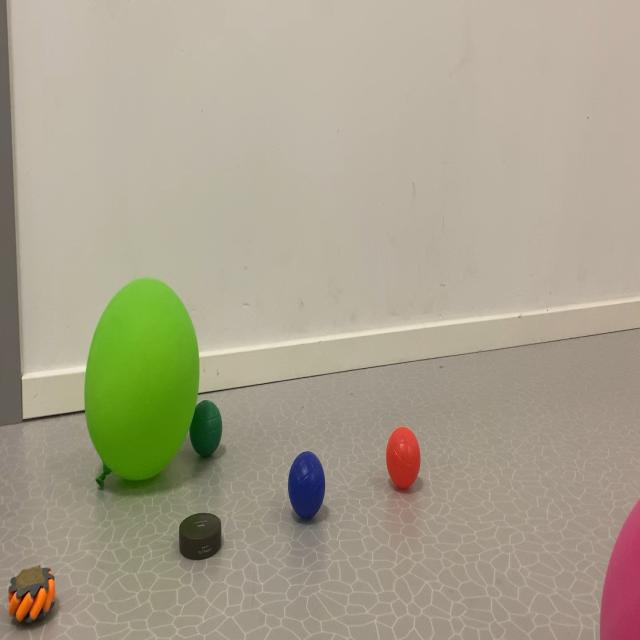7: (381, 386, 463, 528)
green ball: (255, 412, 343, 559)
red ball: (186, 350, 242, 471)
